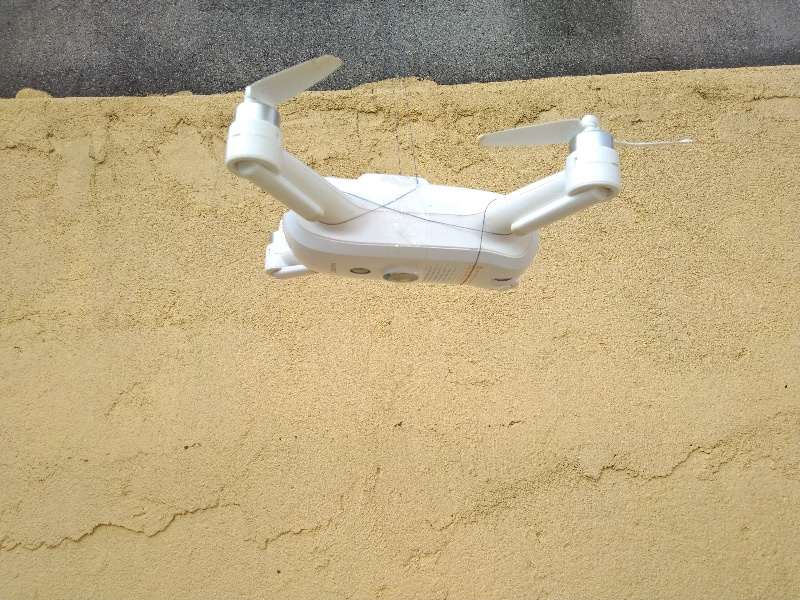drone: (228, 51, 644, 294)
